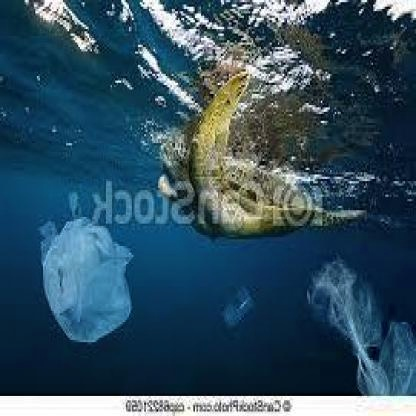pbag: (299, 253, 416, 396), (35, 212, 137, 349)
